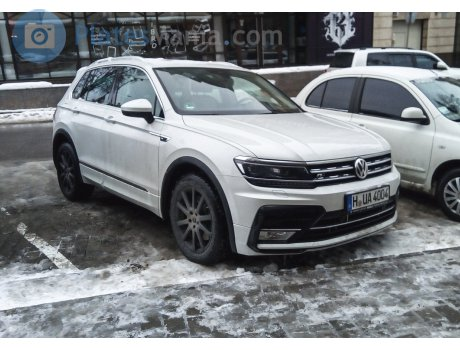License Plates: (348, 194, 392, 199)
